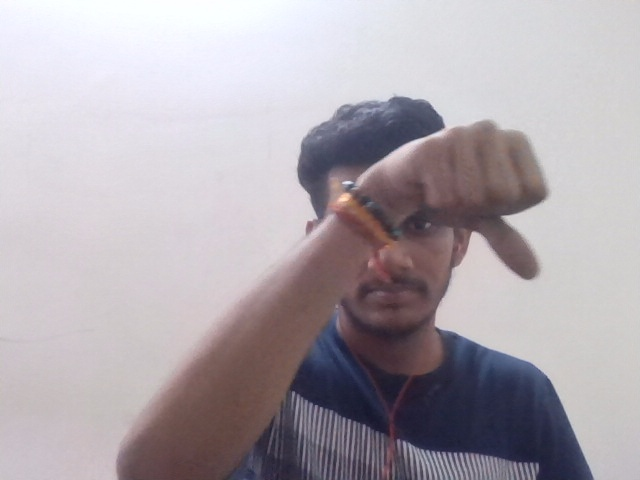yes: (359, 122, 580, 293)
